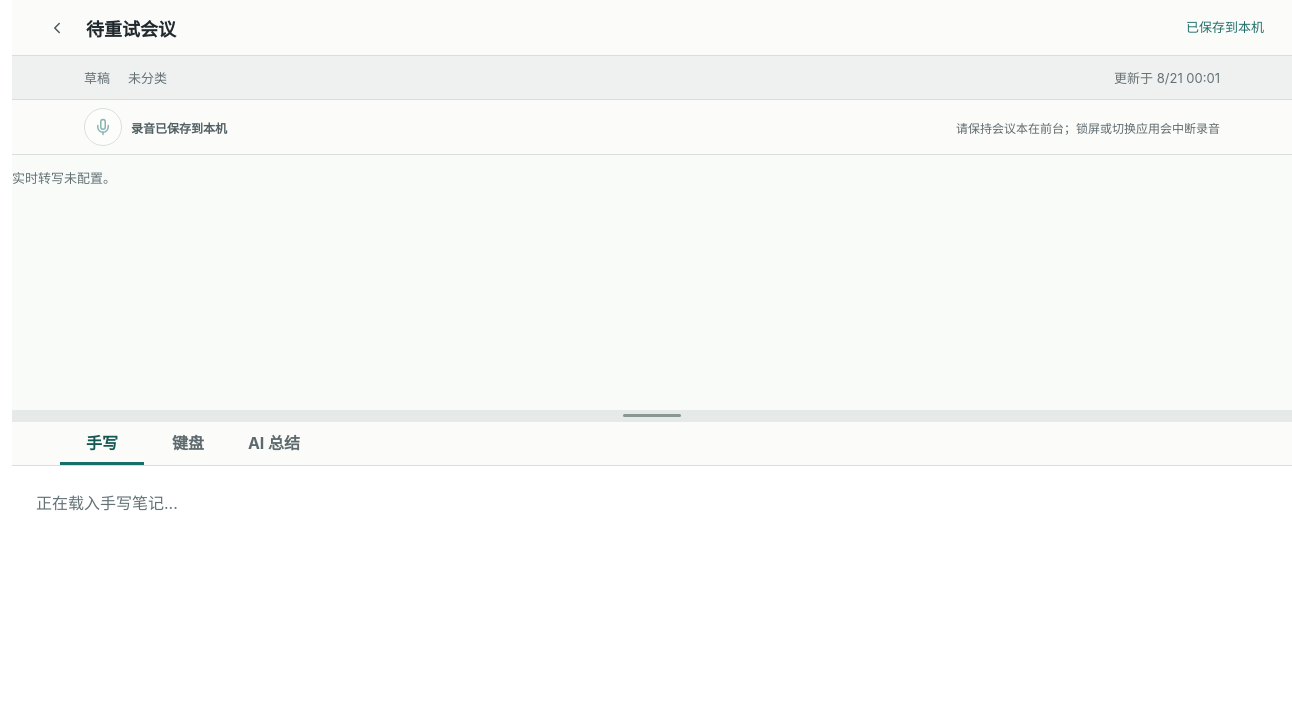
Test: MeetingWorkspacePage › refreshes an existing pending meeting before using its authoritative local note
This screenshot has width=1292, height=720.
Click the tab "键盘": point(188, 443) [146, 422, 230, 465]
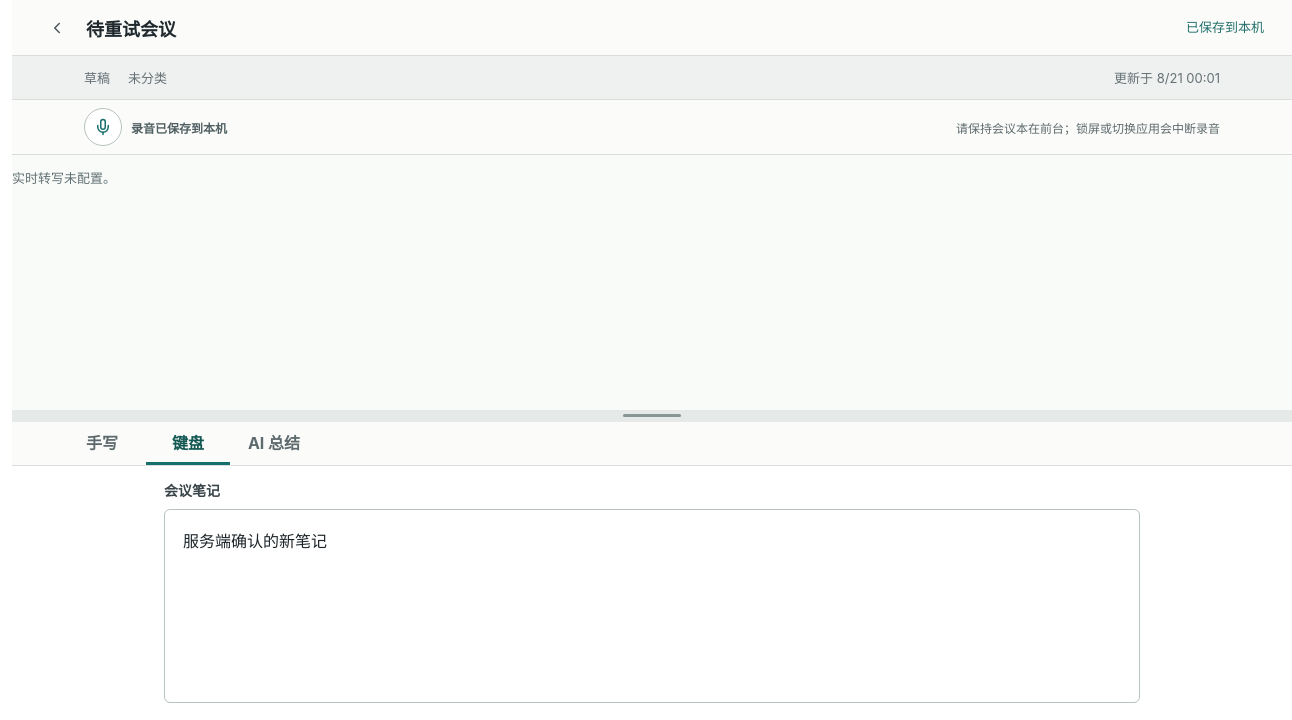
Now the text box labelled "会议笔记" holds "服务端确认的新笔记", box [164, 509, 1140, 703]
